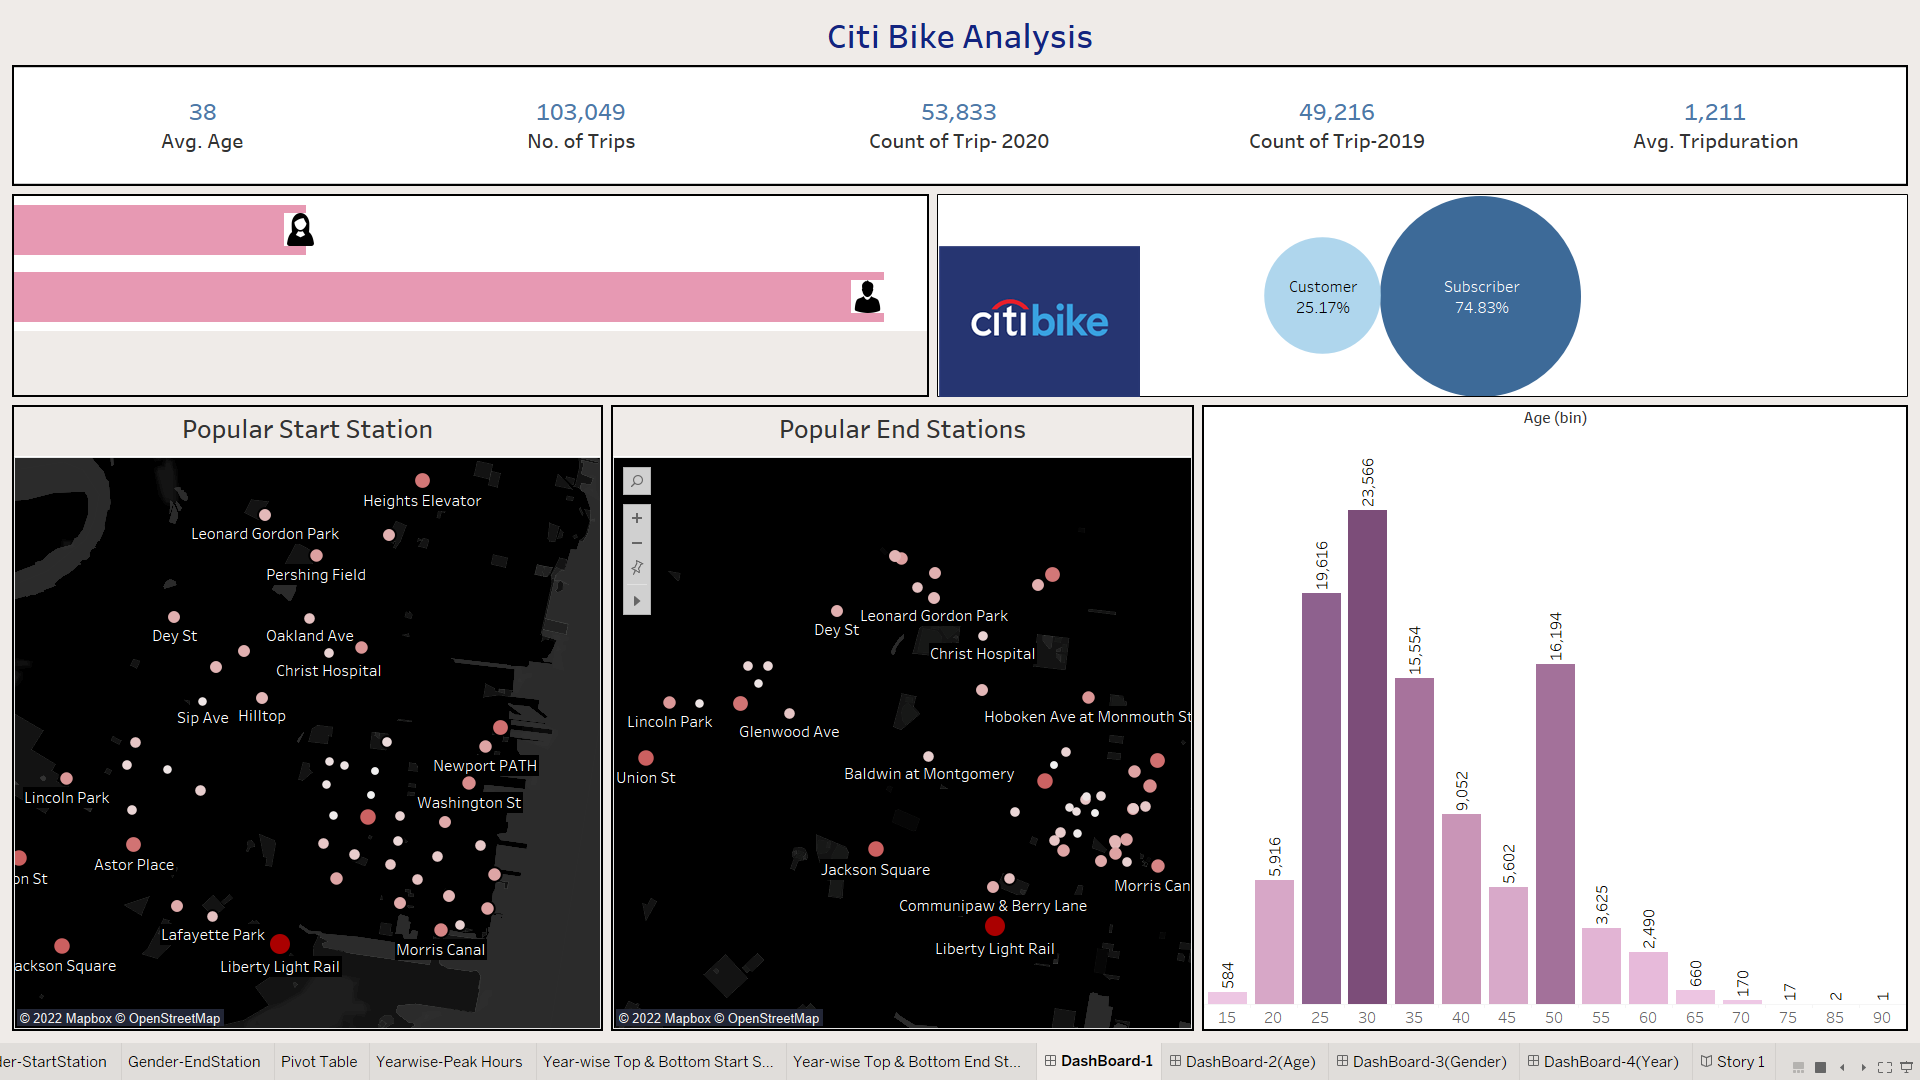

This screenshot's page, from the dashboard's own definition file:
{"tool":"tableau","page":{"name":"DashBoard-1","canvas":[1000,1000],"units":"permille","ordinal":0},"visuals":[{"type":"title","box":[11.5,9.5,977,63]},{"type":"worksheet","title":"KPI","mark":"Text","box":[11.5,72.5,977,121.8]},{"type":"worksheet","title":"Gender Overview","mark":"Bar","rows":["gender"],"cols":["gender","Calculation_918734333332918278"],"box":[11.5,194.4,474.4,198.4]},{"type":"worksheet","title":"Subscriber Type","mark":"Circle","box":[485.9,194.4,502.6,198.4]},{"type":"image","param":"Image/download.png","box":[406.2,236.2,270.4,144.5]},{"type":"worksheet","title":"Map","mark":"Automatic","rows":["start.station.latitude"],"cols":["start.station.longitude"],"box":[11.5,392.8,307.1,597.7]},{"type":"worksheet","title":"End Map","mark":"Automatic","rows":["end.station.latitude"],"cols":["end.station.longitude"],"box":[318.6,392.8,303.5,597.7]},{"type":"worksheet","title":"Age","mark":"Automatic","rows":["Calculation_1776670060737310723"],"cols":["Age (bin)"],"box":[622.1,392.8,366.4,597.7]}]}

Visuals, with their boxes on the dashboard's canvas, which has no fixed pixel size, in thousandths of its width and height (x1, y1, x2, y2). These are canvas units, not pixel positions in the 1920x1080 screenshot, which may show the page scaled, cropped or inside an application window:
title: 12, 10, 988, 72
"KPI" worksheet (Text marks): 12, 72, 988, 194
"Gender Overview" worksheet (Bar marks): 12, 194, 486, 393
"Subscriber Type" worksheet (Circle marks): 486, 194, 988, 393
image: 406, 236, 677, 381
"Map" worksheet: 12, 393, 319, 990
"End Map" worksheet: 319, 393, 622, 990
"Age" worksheet: 622, 393, 988, 990
